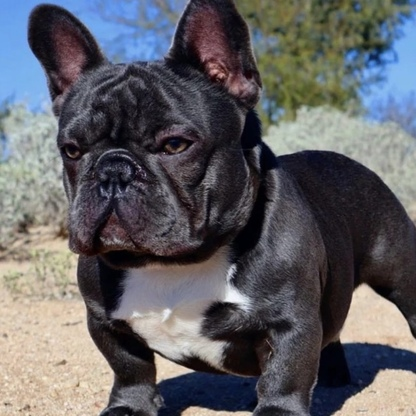bulldog: (27, 13, 400, 416)
